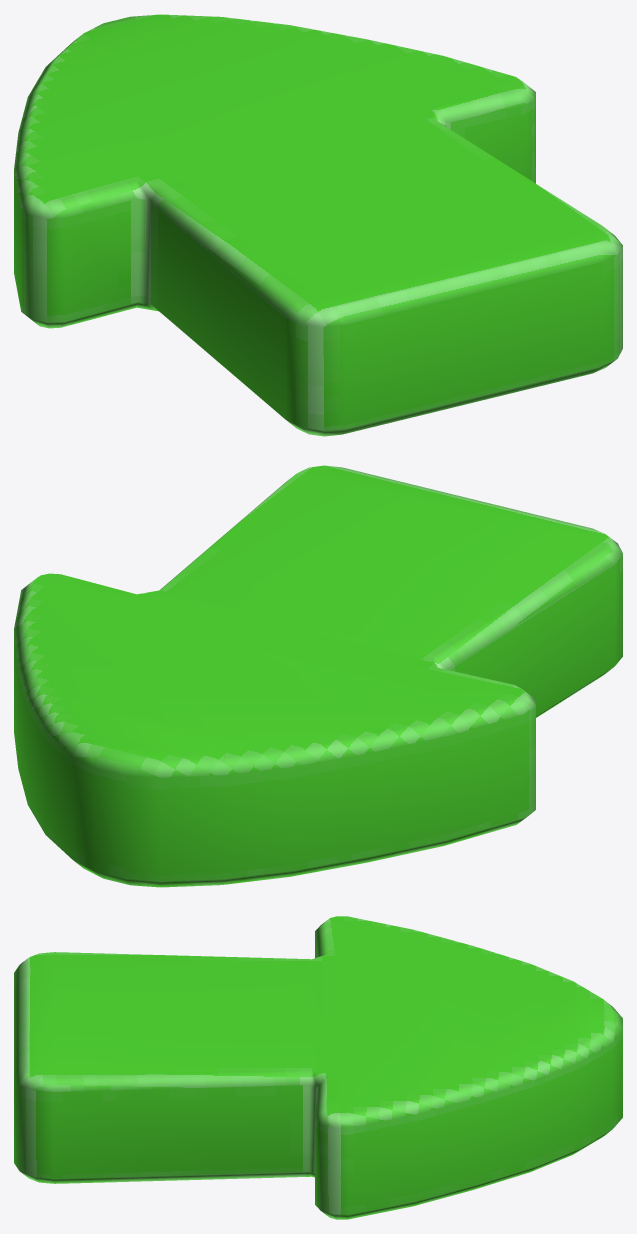
Rendered from DC_prp_jiantou_mod 02.FBX.
3 views of the same model, one above another, from view 1: azimuth 30°, elevation 25°; view 2: azimuth 150°, elevation 25°; view 3: azimuth 270°, elevation 25° (orthographic). The views are drawn at different scales.
Parts seen in each view (by area): view 1: DC_prp_jiantou_mod; view 2: DC_prp_jiantou_mod; view 3: DC_prp_jiantou_mod.
Part boxes in pixels (left/top/right/bottom): DC_prp_jiantou_mod: left=14, top=14, right=622, bottom=436; DC_prp_jiantou_mod: left=14, top=465, right=622, bottom=887; DC_prp_jiantou_mod: left=14, top=916, right=622, bottom=1219.
Bounding box in the file's own units: 70.89 × 17.06 × 88.36.
